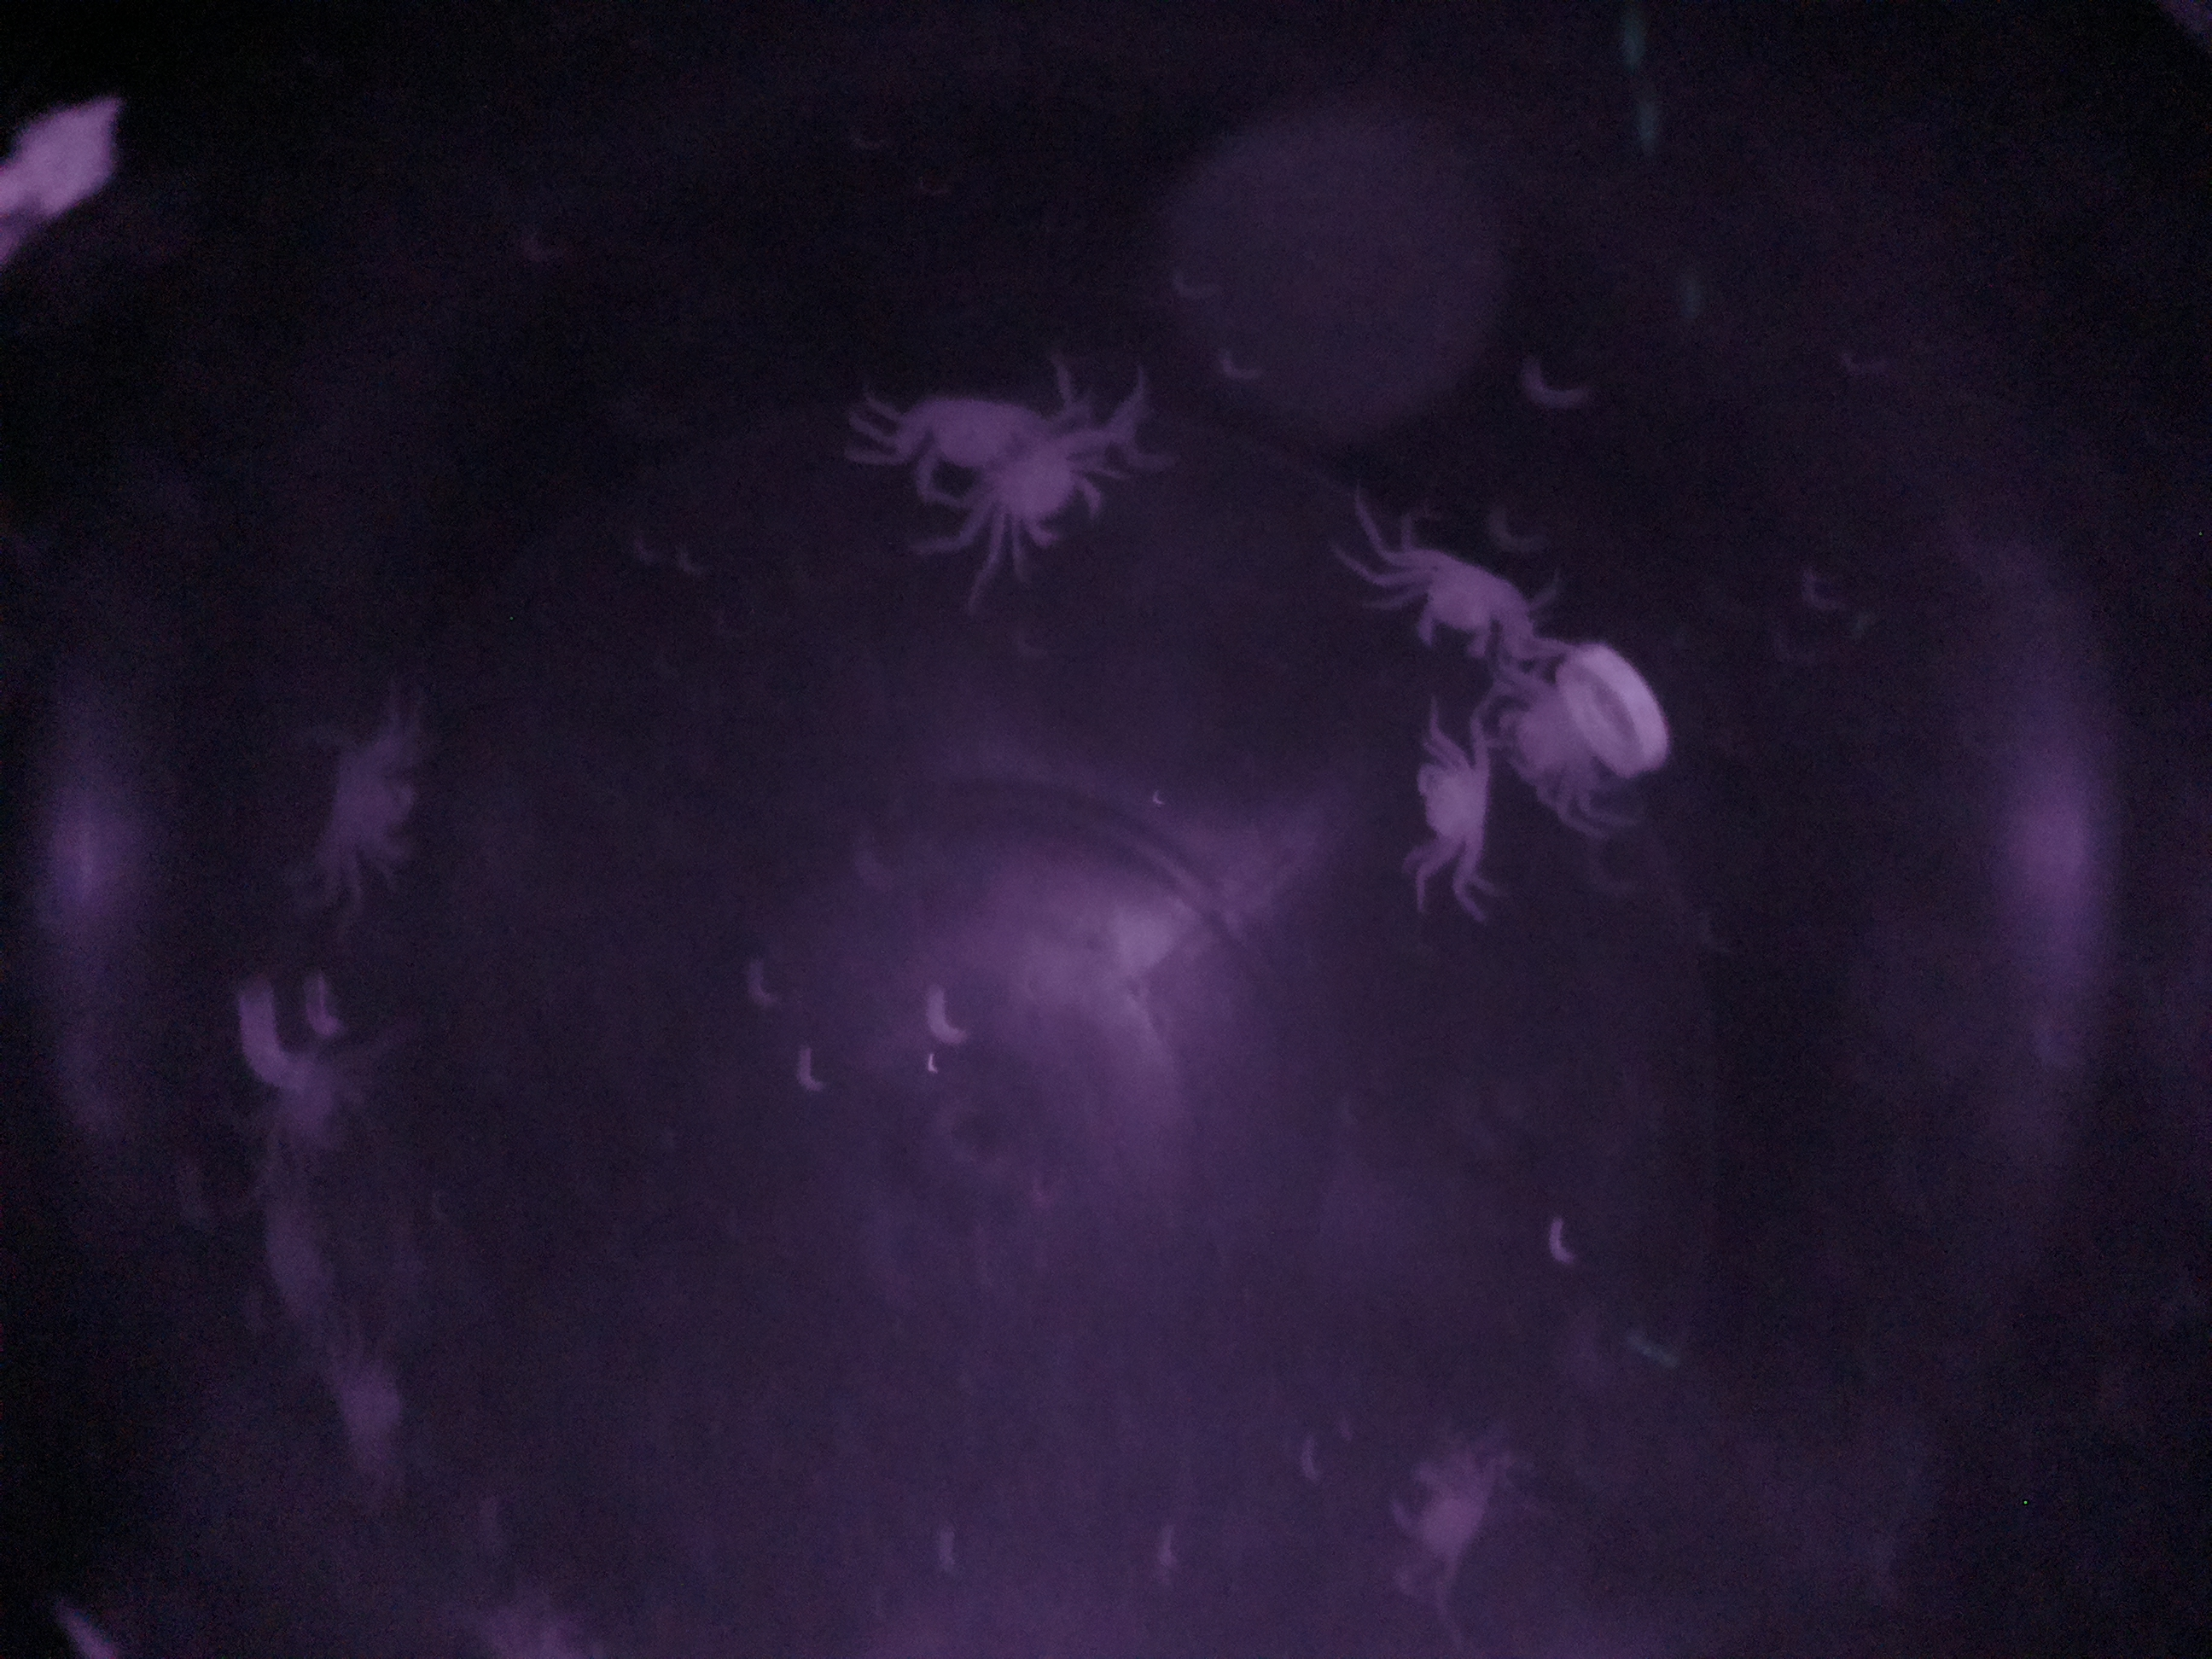Crab: (1376, 486, 1534, 666), (1393, 714, 1515, 889)
